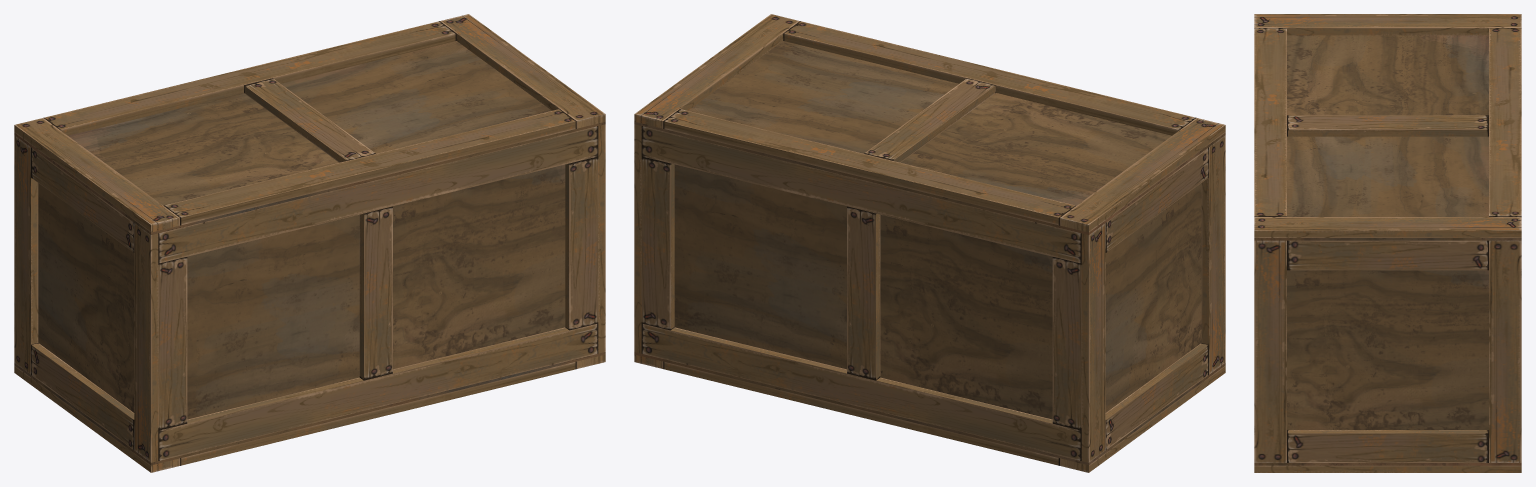
File: crate05.FBX
3 views of the same model, side by side, from view 1: azimuth 30°, elevation 25°; view 2: azimuth 150°, elevation 25°; view 3: azimuth 270°, elevation 25° (orthographic). The views are drawn at different scales.
Visible parts, largest first — view 1: crate05, crate05_lid; view 2: crate05, crate05_lid; view 3: crate05, crate05_lid.
Part boxes in pixels (<box>): crate05: <box>14,124,605,472</box>; crate05_lid: <box>14,14,605,234</box>; crate05: <box>634,124,1225,472</box>; crate05_lid: <box>634,14,1225,234</box>; crate05: <box>1254,240,1521,472</box>; crate05_lid: <box>1254,14,1521,240</box>.
Bounding box in the file's own units: 188 × 98 × 98.
